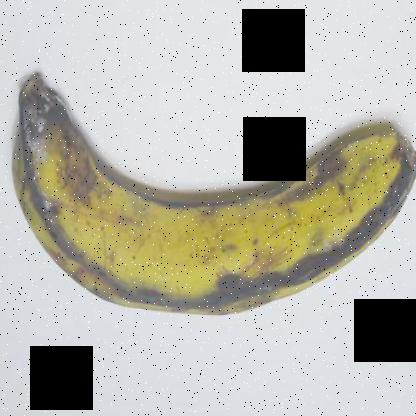overripe: (1, 41, 415, 335)
rotten: (1, 57, 107, 195)
